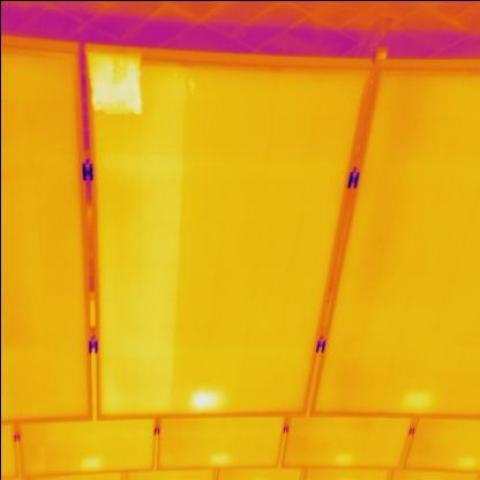fault: (93, 51, 140, 113), (194, 389, 224, 412)
